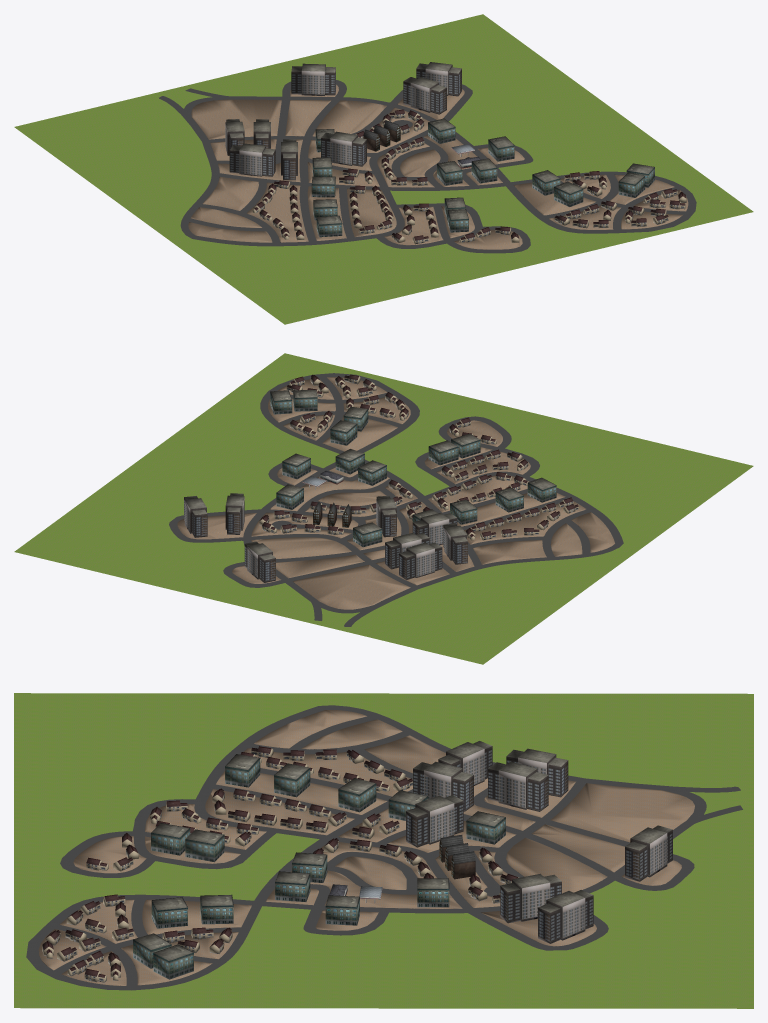
Rendered from TrackingScenarioFromBlender.dae.
3 views of the same model, one above another, from view 1: azimuth 30°, elevation 25°; view 2: azimuth 150°, elevation 25°; view 3: azimuth 270°, elevation 25° (orthographic). The views are drawn at different scales.
Parts seen in each view (by area): view 1: Grass, Walks, Streets, Box087, Box104, Box014, Box067, Box004, Box088, Box032, Box033, Box001 (+7 smaller); view 2: Grass, Walks, Streets, Box090, Box104, Box087, Box004, Box088, Box089, Box014, Box067, Box052 (+10 smaller); view 3: Grass, Walks, Streets, Box089, Box067, Box004, Box014, Box104, Box088, Box090, Box087, Box034 (+15 smaller).
Boxes of the visible parts, x1,y1,x2,y2 form: Grass: (14, 14, 753, 324); Walks: (188, 84, 688, 249); Streets: (159, 80, 696, 253); Box087: (229, 143, 275, 176); Box104: (291, 63, 335, 95); Box014: (403, 77, 446, 114); Box067: (321, 131, 366, 166); Box004: (416, 62, 461, 96); Box088: (281, 139, 297, 180); Box032: (554, 181, 583, 206); Box033: (618, 172, 645, 197); Box001: (428, 118, 455, 143); Grass: (14, 353, 753, 664); Walks: (177, 377, 614, 609); Streets: (169, 373, 623, 626); Box090: (399, 542, 442, 579); Box104: (244, 541, 275, 582); Box087: (443, 523, 467, 564); Box004: (184, 496, 207, 537); Box088: (412, 513, 457, 545); Box089: (385, 533, 429, 569); Box014: (225, 493, 244, 534); Box067: (376, 495, 396, 537); Box052: (428, 440, 458, 465); Grass: (14, 693, 753, 1008); Walks: (38, 710, 694, 985); Streets: (26, 705, 742, 990); Box089: (488, 762, 548, 811); Box067: (406, 795, 463, 847); Box004: (538, 890, 593, 943); Box014: (500, 873, 561, 923); Box104: (625, 825, 672, 881); Box088: (413, 761, 473, 811); Box090: (506, 748, 568, 797); Box087: (438, 741, 492, 785); Box034: (153, 944, 193, 979).
Bounding box in the file's own units: 477 × 477 × 24.69.
9 materials, 9 textured.
